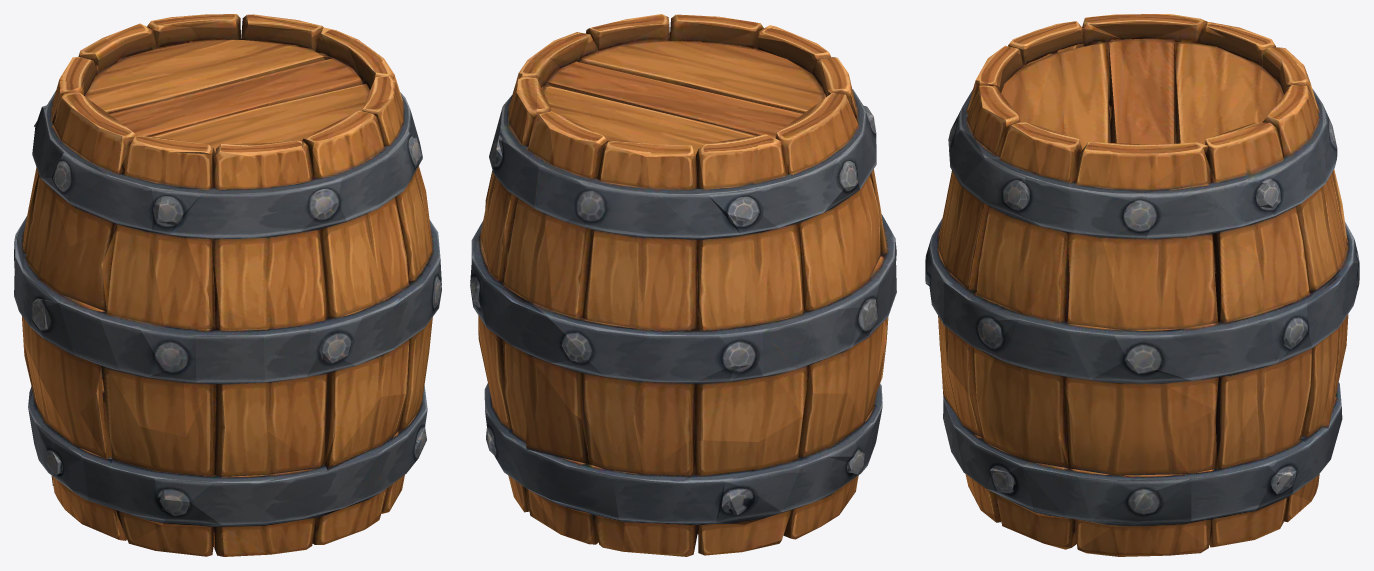
The model's file is barrel.hq.glb.
3 views of the same model, side by side, from view 1: azimuth 30°, elevation 25°; view 2: azimuth 150°, elevation 25°; view 3: azimuth 270°, elevation 25° (orthographic).
Parts seen in each view (by area): view 1: output_unwrapped; view 2: output_unwrapped; view 3: output_unwrapped.
Boxes of the visible parts, x1,y1,x2,y2 form: output_unwrapped: (14,14,441,556); output_unwrapped: (470,14,896,556); output_unwrapped: (925,14,1359,556).
Size of the model in its own units: 1.86 by 1.9 by 1.85.
1 material, 1 textured.
